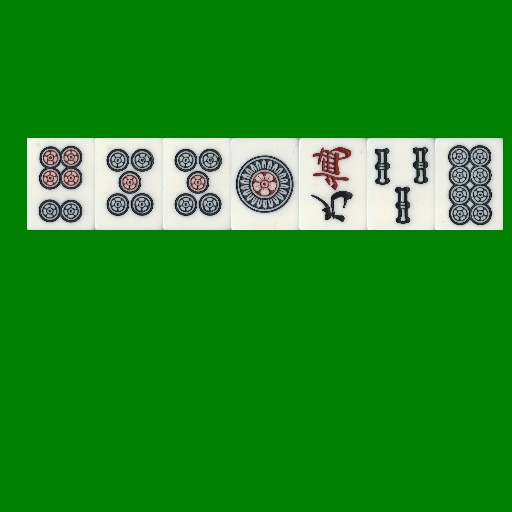1p: (231, 138, 299, 230)
3s: (367, 138, 435, 230)
5p: (95, 138, 163, 230), (163, 138, 231, 230)
6p: (27, 138, 95, 230)
8p: (435, 138, 503, 230)
9m: (299, 138, 367, 230)
